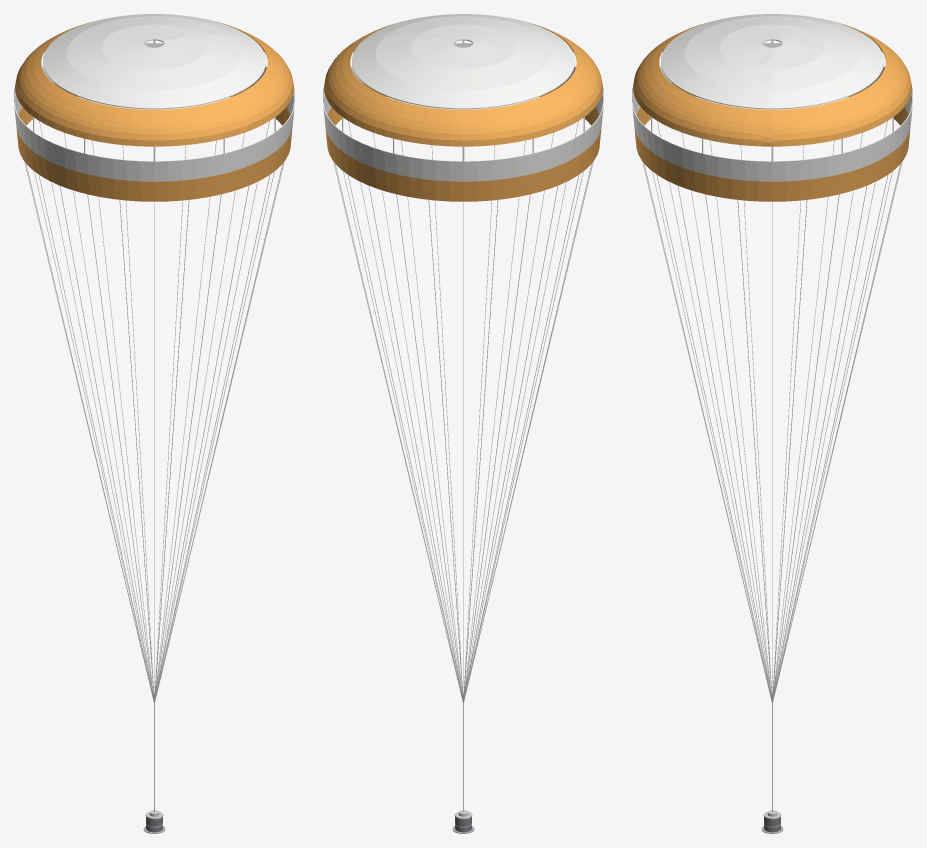
File: stage09_dgb_chute_deployed.glb
The picture shows the model from 3 angles, left to right: view 1: azimuth 30°, elevation 25°; view 2: azimuth 150°, elevation 25°; view 3: azimuth 270°, elevation 25°; orthographic projection.
Visible parts, largest first — view 1: canopy_ring_0, lines_riser, canopy_ring_1, band_upper, band_lower; view 2: canopy_ring_0, lines_riser, canopy_ring_1, band_upper, band_lower; view 3: canopy_ring_0, lines_riser, canopy_ring_1, band_upper, band_lower.
Part boxes in pixels (<box>): canopy_ring_0: <box>43,14,265,109</box>; lines_riser: <box>24,100,284,812</box>; canopy_ring_1: <box>15,21,293,146</box>; band_upper: <box>14,43,294,181</box>; band_lower: <box>16,83,292,201</box>; canopy_ring_0: <box>352,14,574,109</box>; lines_riser: <box>333,100,593,812</box>; canopy_ring_1: <box>324,21,602,146</box>; band_upper: <box>323,43,603,181</box>; band_lower: <box>325,83,601,201</box>; canopy_ring_0: <box>661,14,883,109</box>; lines_riser: <box>642,100,902,812</box>; canopy_ring_1: <box>633,21,911,146</box>; band_upper: <box>632,43,912,181</box>; band_lower: <box>634,83,910,201</box>.
Bounding box in the file's own units: 11.75 × 36.29 × 11.76.
